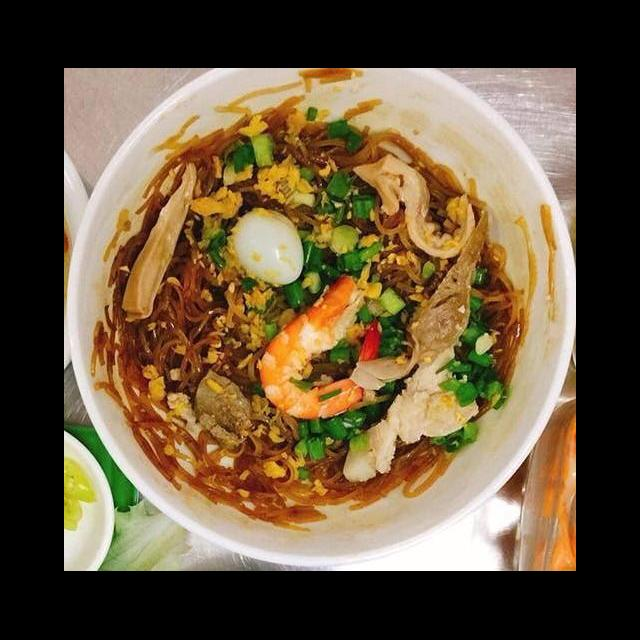banh hu tieu: (102, 124, 264, 396), (113, 384, 332, 538), (249, 102, 493, 238), (319, 422, 464, 518), (469, 240, 542, 410), (366, 192, 454, 306)
hu tieu: (68, 96, 576, 572)
thit heo: (339, 336, 482, 486)
tom: (253, 270, 385, 422)
trung: (225, 202, 305, 288)
